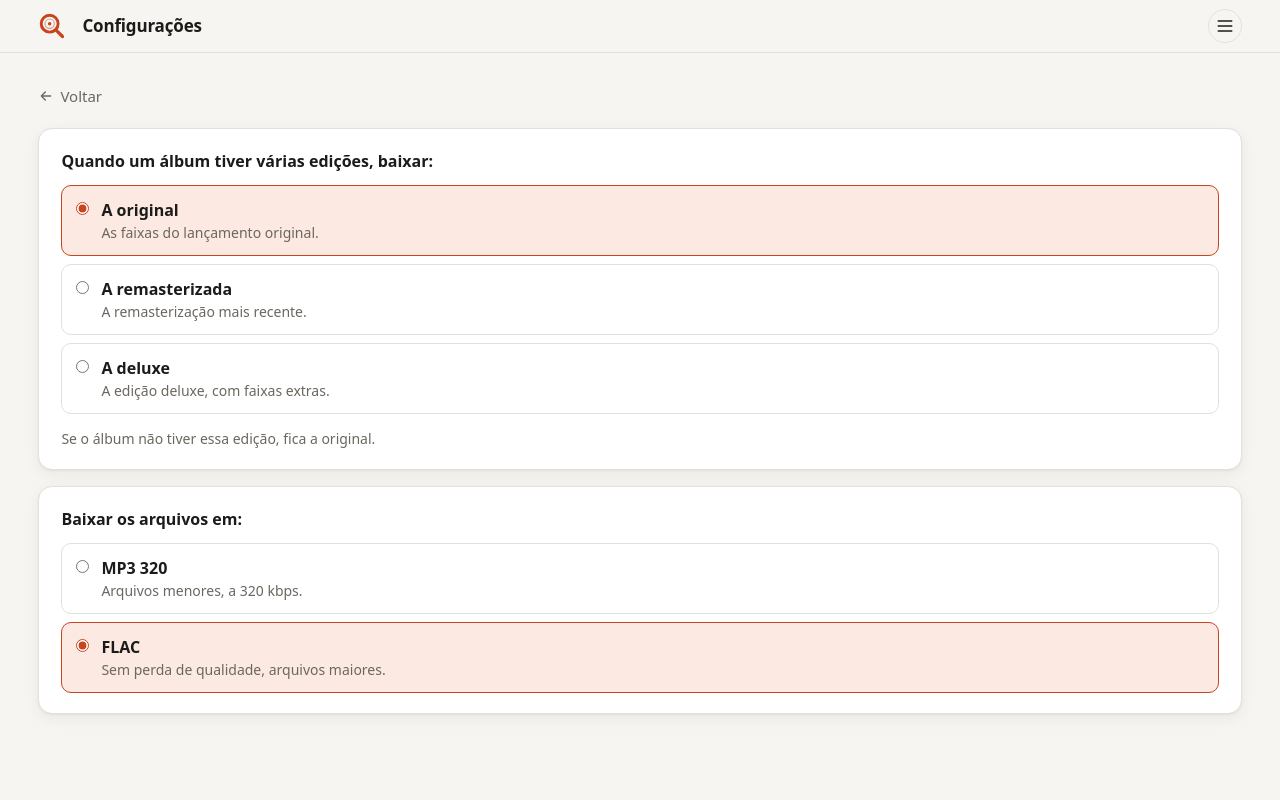
Test: SettingsPage › salva a edição escolhida, mantendo a qualidade
Click the radio button labelled "A deluxe A edição deluxe, com faixas extras.".
click(83, 366)  # box [76,360,89,372]
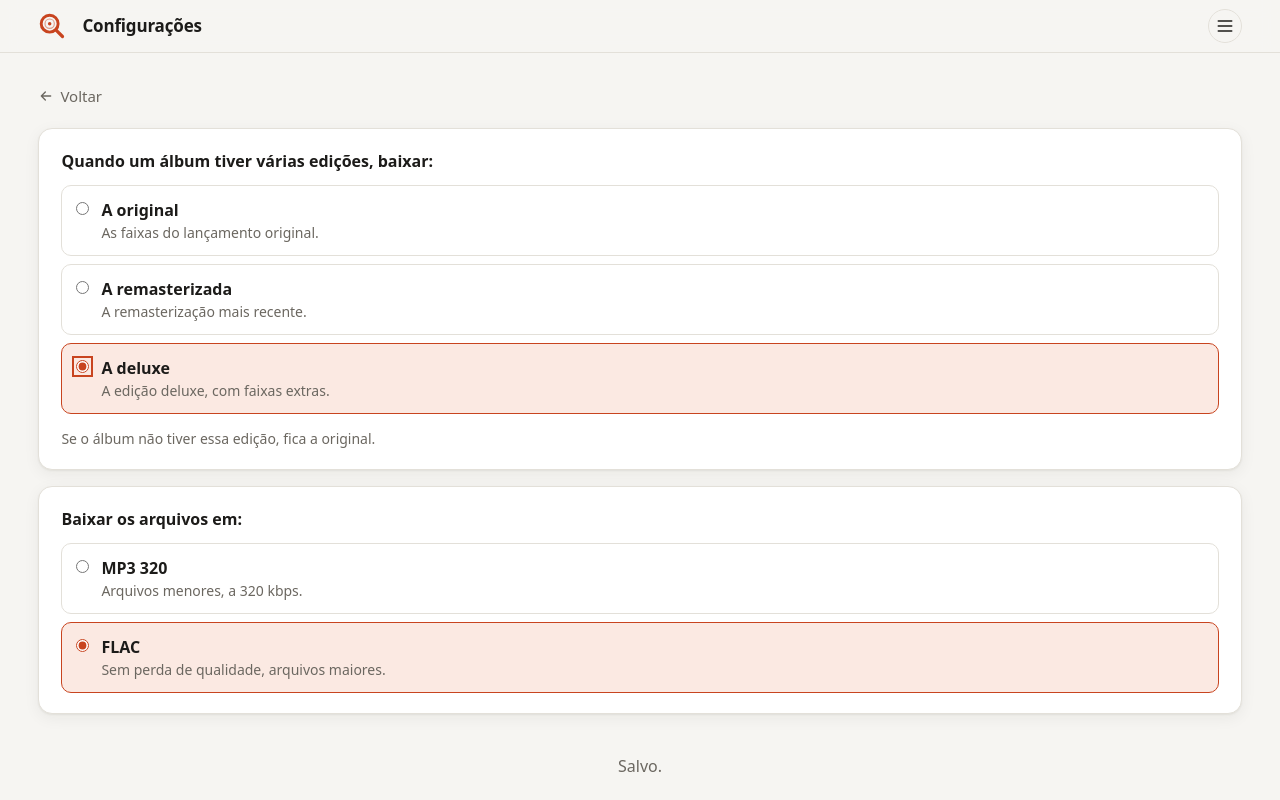
Now the radio button labelled "A deluxe A edição deluxe, com faixas extras." is checked, box [76,360,89,372]
Now the text "Salvo." is shown, box [618,754,662,776]
